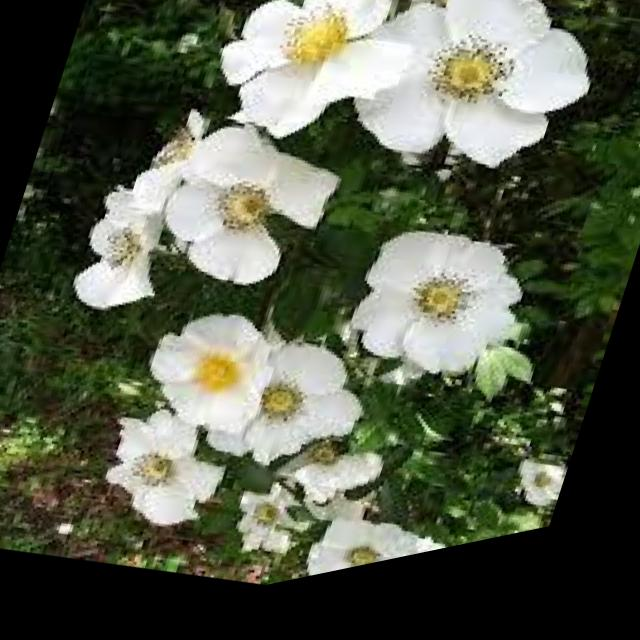Flower: (137, 98, 364, 339), (331, 211, 538, 431), (177, 311, 378, 514), (58, 121, 215, 338), (89, 388, 244, 560), (136, 292, 285, 463), (274, 436, 388, 537), (302, 510, 430, 590), (228, 480, 318, 581), (506, 465, 569, 538)
